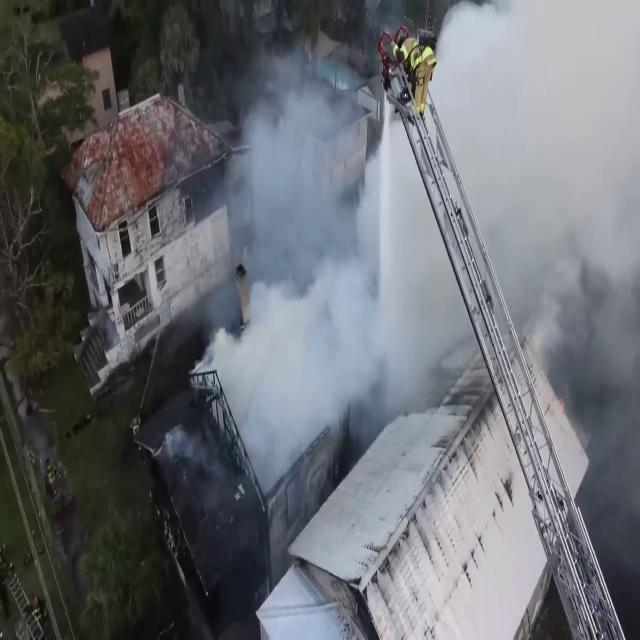Smoke: (214, 235, 360, 444)
